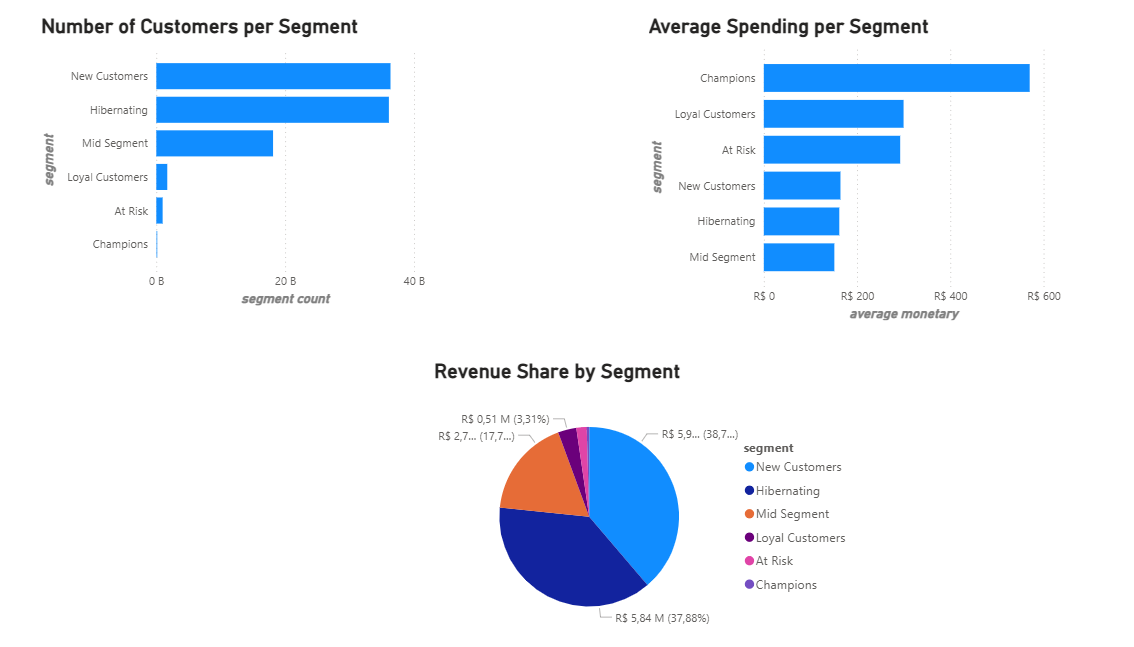

What the dashboard file says about the page in this screenshot:
{"tool":"powerbi","page":{"name":"3. sayfa","canvas":[1280,720],"ordinal":2},"visuals":[{"type":"clusteredBarChart","title":"Number of Customers per Segment","fields":{"Category":["rfm_segmented.segment"],"Y":["CountNonNull(rfm_segmented.segment)"]},"box":[69.6,24.3,424.2,319],"z":0},{"type":"clusteredBarChart","title":"Average Spending per Segment","fields":{"Category":["rfm_segmented.segment"],"Y":["Avg(rfm_segmented.monetary)"]},"box":[725.4,24.3,455,335.2],"z":1000},{"type":"pieChart","title":"Revenue Share by Segment","fields":{"Category":["rfm_segmented.segment"],"Y":["Sum(rfm_segmented.monetary)"]},"box":[493.9,396.7,463.1,314.1],"z":2000}]}

Visuals, with their boxes in screenshot pixels (x1, y1, x2, y2), scaled from the page's 1280x720 canvas onto the 1134x647 screenshot:
"Number of Customers per Segment" clusteredBarChart: box=[62, 22, 437, 308]
"Average Spending per Segment" clusteredBarChart: box=[643, 22, 1046, 323]
"Revenue Share by Segment" pieChart: box=[438, 356, 848, 639]
